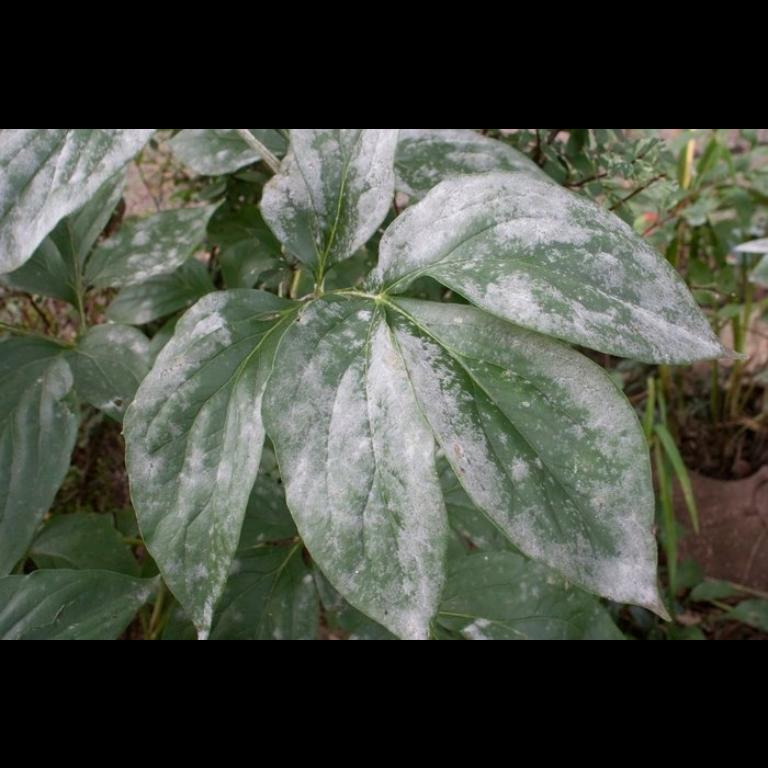powdery-mildew: (431, 183, 628, 328), (294, 358, 436, 522), (562, 386, 666, 608)
